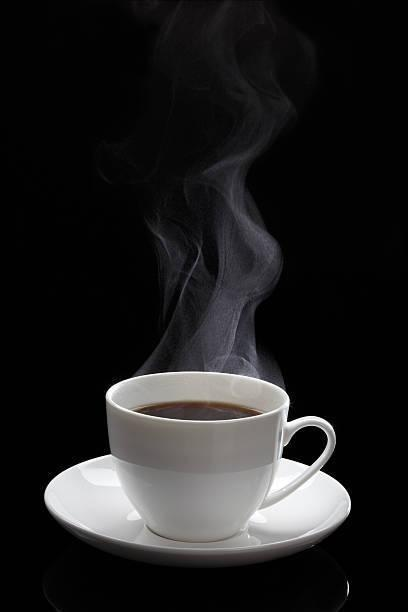cup-handle: (104, 370, 336, 543)
